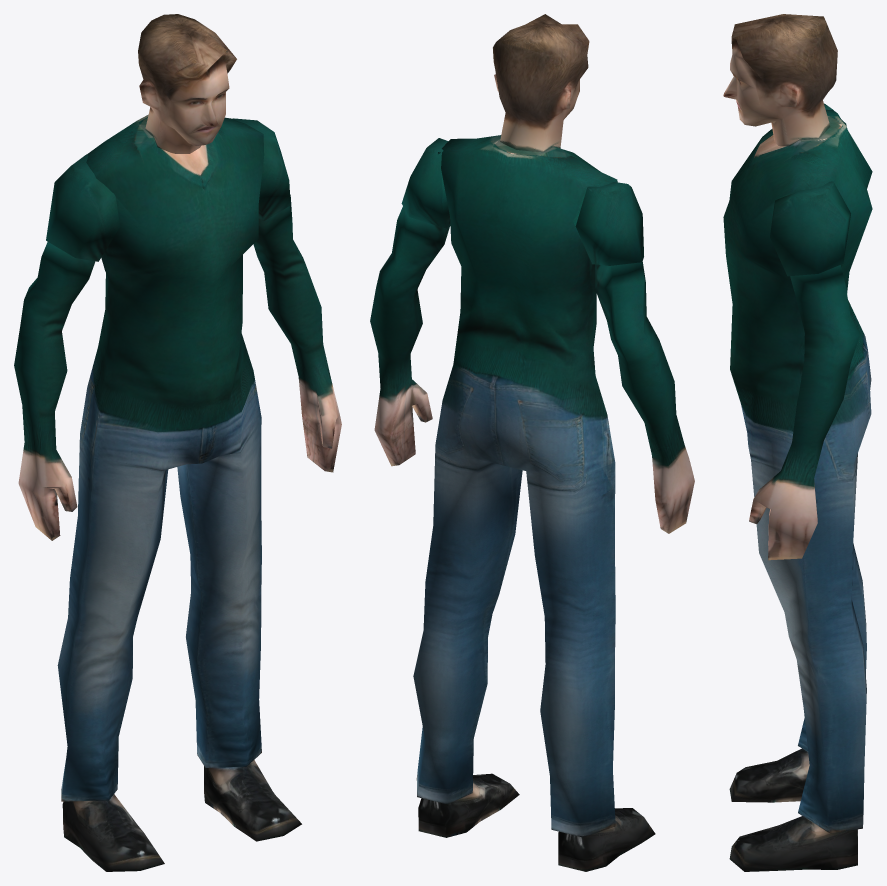
File: MikeAinsleyPSX.fbx
3 views of the same model, side by side, from view 1: azimuth 30°, elevation 25°; view 2: azimuth 150°, elevation 25°; view 3: azimuth 270°, elevation 25° (orthographic).
Visible parts, largest first — view 1: Mesh_0; view 2: Mesh_0; view 3: Mesh_0.
Part boxes in pixels (left/top/right/bottom): Mesh_0: left=14, top=14, right=341, bottom=871; Mesh_0: left=370, top=14, right=694, bottom=871; Mesh_0: left=723, top=14, right=872, bottom=871.
Bounding box in the file's own units: 77.79 × 200 × 33.54.
Materials: 1 (1 with a texture image).
